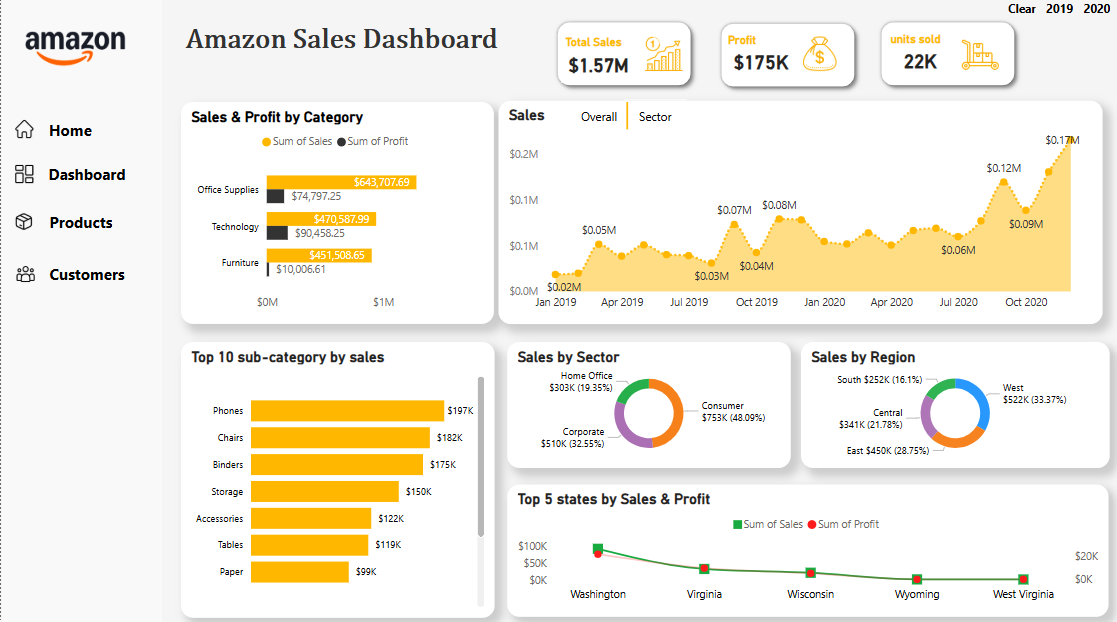

What the dashboard file says about the page in this screenshot:
{"tool":"powerbi","page":{"name":"Dashboard","canvas":[1280,720],"ordinal":1},"visuals":[{"type":"shape","box":[997.5,20,170,90],"z":0},{"type":"shape","box":[814,21.2,170,90],"z":1000},{"type":"shape","box":[627.5,20,170,90],"z":2000},{"type":"textbox","box":[1.4,0,182.3,720.7],"z":3000},{"type":"actionButton","box":[13.9,297.7,168.3,39],"z":4000},{"type":"actionButton","box":[7,236.5,168.3,40.3],"z":5000},{"type":"actionButton","box":[11.1,182.3,173.9,39],"z":6000},{"type":"actionButton","box":[1.4,130.8,155.8,40.3],"z":7000},{"type":"image","box":[4.2,186.4,44.5,30.6],"z":8000},{"type":"image","box":[0,21.4,170.2,75],"z":9000},{"type":"image","box":[4.2,136.3,44.5,30.6],"z":10000},{"type":"image","box":[5.6,301.9,44.5,30.6],"z":11000},{"type":"image","box":[2.8,242.1,45.9,30.6],"z":12000},{"type":"card","title":"units sold","fields":{"Values":["Sum(Amazon_cleaned.Quantity)"]},"box":[1011.9,39.3,78.6,52.4],"z":13000},{"type":"card","title":"Total Sales","fields":{"Values":["Sum(Amazon_cleaned.Sales)"]},"box":[640,43.8,86.2,53.8],"z":14000},{"type":"card","title":"Profit","fields":{"Values":["Sum(Amazon_cleaned.Profit)"]},"box":[825,41.2,86.2,52.5],"z":15000},{"type":"image","box":[896,36.2,80,57.5],"z":16000},{"type":"image","box":[1082.5,40,72.5,52.5],"z":17000},{"type":"image","box":[717.5,35,80,58.8],"z":18000},{"type":"clusteredBarChart","title":"Sales & Profit by Category","fields":{"Y":["Sum(Amazon_cleaned.Sales)","Sum(Amazon_cleaned.Profit)"],"Category":["Amazon_cleaned.Category"]},"box":[206.2,120,357.5,253.8],"z":19000},{"type":"barChart","title":"Top 10 sub-category by sales","fields":{"Category":["Amazon_cleaned.Sub-Category"],"Y":["Sum(Amazon_cleaned.Sales)"]},"box":[205,393.8,358.8,315],"z":20000},{"type":"areaChart","title":"Sales","fields":{"Y":["Sum(Amazon_cleaned.Sales)"],"Category":["Amazon_cleaned.Order Date.Variation.Date Hierarchy.Year","Amazon_cleaned.Order Date.Variation.Date Hierarchy.Month"]},"box":[568.8,118.8,690,255],"z":21000},{"type":"donutChart","title":"Sales by Sector","fields":{"Category":["Amazon_cleaned.Segment"],"Y":["Sum(Amazon_cleaned.Sales)"]},"box":[578.8,393.8,323.8,143.8],"z":22000},{"type":"donutChart","title":"Sales by Region","fields":{"Y":["Sum(Amazon_cleaned.Sales)"],"Category":["Amazon_cleaned.Region"]},"box":[913.8,393.8,352.5,143.8],"z":23000},{"type":"lineChart","title":"Top 5 states by Sales & Profit","fields":{"Y":["Sum(Amazon_cleaned.Sales)"],"Y2":["Sum(Amazon_cleaned.Profit)"],"Category":["Amazon_cleaned.State"]},"box":[578.8,557.5,687.5,151.2],"z":24000},{"type":"textbox","box":[205,25,393.8,55],"z":25000},{"type":"actionButton","box":[647.5,120,72.5,31.2],"z":27000},{"type":"actionButton","box":[712.5,117.5,70,37],"z":28000},{"type":"shape","box":[706.2,120,20,31.2],"z":29000},{"type":"actionButton","title":"2019","box":[1182.5,0,53.8,21.2],"z":31000},{"type":"actionButton","title":"2019","box":[1223.8,0,56.2,20],"z":32000},{"type":"actionButton","box":[1140,0,53.8,21.2],"z":33000}]}

Visuals, with their boxes on the page's 1280x720 design canvas (x1, y1, x2, y2). These are canvas units, not pixel positions in the 1117x622 screenshot, which may show the page scaled, cropped or inside an application window:
shape: select_region(998, 20, 1168, 110)
shape: select_region(814, 21, 984, 111)
shape: select_region(628, 20, 798, 110)
textbox: select_region(1, 0, 184, 721)
actionButton: select_region(14, 298, 182, 337)
actionButton: select_region(7, 236, 175, 277)
actionButton: select_region(11, 182, 185, 221)
actionButton: select_region(1, 131, 157, 171)
image: select_region(4, 186, 49, 217)
image: select_region(0, 21, 170, 96)
image: select_region(4, 136, 49, 167)
image: select_region(6, 302, 50, 332)
image: select_region(3, 242, 49, 273)
"units sold" card: select_region(1012, 39, 1090, 92)
"Total Sales" card: select_region(640, 44, 726, 98)
"Profit" card: select_region(825, 41, 911, 94)
image: select_region(896, 36, 976, 94)
image: select_region(1082, 40, 1155, 92)
image: select_region(718, 35, 798, 94)
"Sales & Profit by Category" clusteredBarChart: select_region(206, 120, 564, 374)
"Top 10 sub-category by sales" barChart: select_region(205, 394, 564, 709)
"Sales" areaChart: select_region(569, 119, 1259, 374)
"Sales by Sector" donutChart: select_region(579, 394, 903, 538)
"Sales by Region" donutChart: select_region(914, 394, 1266, 538)
"Top 5 states by Sales & Profit" lineChart: select_region(579, 558, 1266, 709)
textbox: select_region(205, 25, 599, 80)
actionButton: select_region(648, 120, 720, 151)
actionButton: select_region(712, 118, 782, 154)
shape: select_region(706, 120, 726, 151)
"2019" actionButton: select_region(1182, 0, 1236, 21)
"2019" actionButton: select_region(1224, 0, 1280, 20)
actionButton: select_region(1140, 0, 1194, 21)
